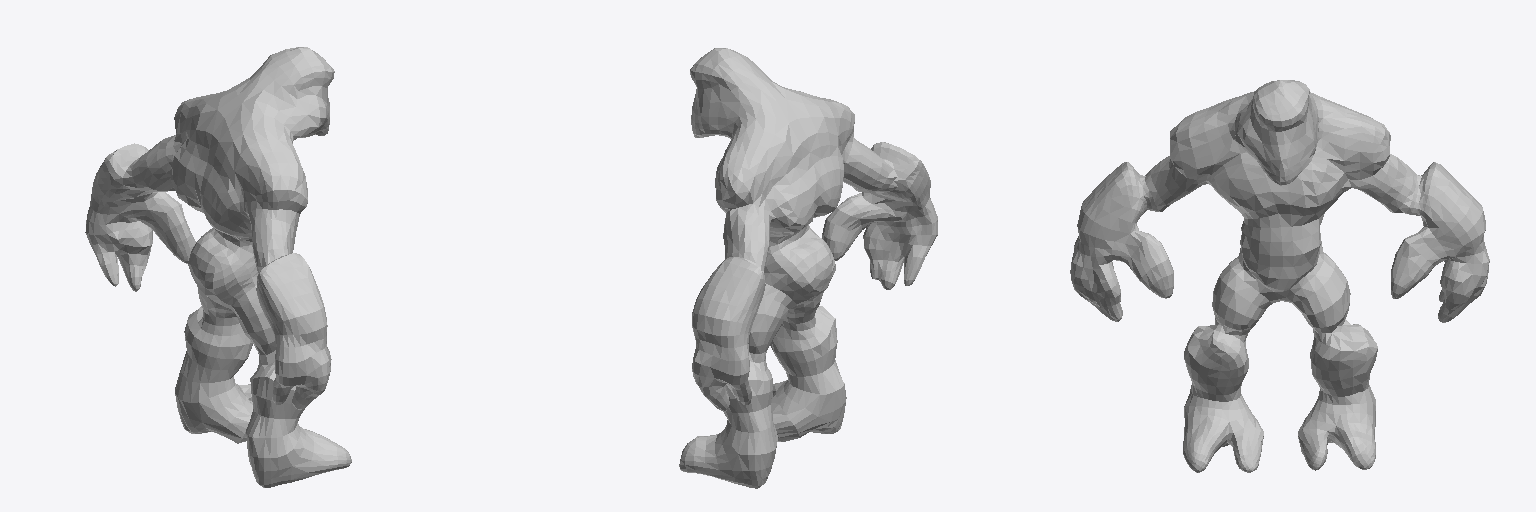
Rendered from crystalgolem.obj.
3 views of the same model, side by side, from view 1: azimuth 30°, elevation 25°; view 2: azimuth 150°, elevation 25°; view 3: azimuth 270°, elevation 25° (orthographic).
Visible parts, largest first — view 1: mesh; view 2: mesh; view 3: mesh.
Boxes of the visible parts, x1,y1,x2,y2 form: mesh: [85, 47, 351, 487]; mesh: [679, 48, 937, 488]; mesh: [1070, 80, 1489, 472].
Size of the model in its own units: 0.396 by 0.998 by 0.9635.